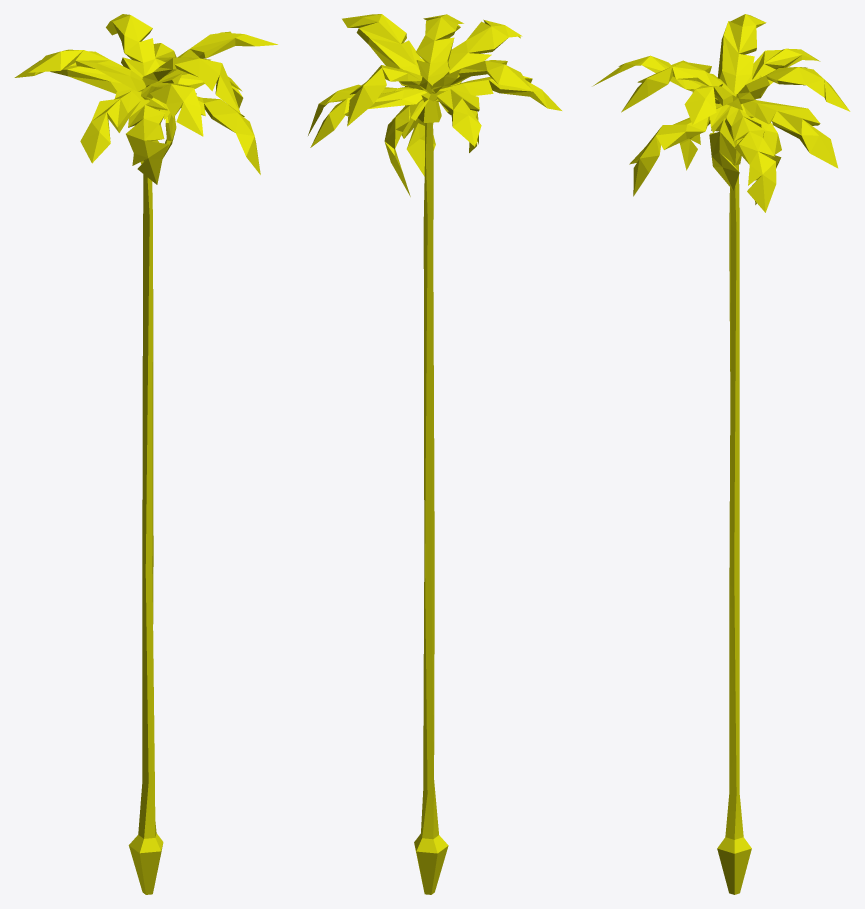
File: cty_palm.glb
3 renders of one model, left to right at view 1: azimuth 30°, elevation 25°; view 2: azimuth 150°, elevation 25°; view 3: azimuth 270°, elevation 25°, orthographic. The views are drawn at different scales.
Parts seen in each view (by area): view 1: SM_Env_PalmTree_01; view 2: SM_Env_PalmTree_01; view 3: SM_Env_PalmTree_01.
Part boxes in pixels (left/top/right/bottom): SM_Env_PalmTree_01: left=14, top=14, right=277, bottom=894; SM_Env_PalmTree_01: left=308, top=14, right=561, bottom=894; SM_Env_PalmTree_01: left=592, top=14, right=850, bottom=894.
Bounding box in the file's own units: 0.037 × 0.137 × 0.0384.
Materials: 1 (1 with a texture image).
